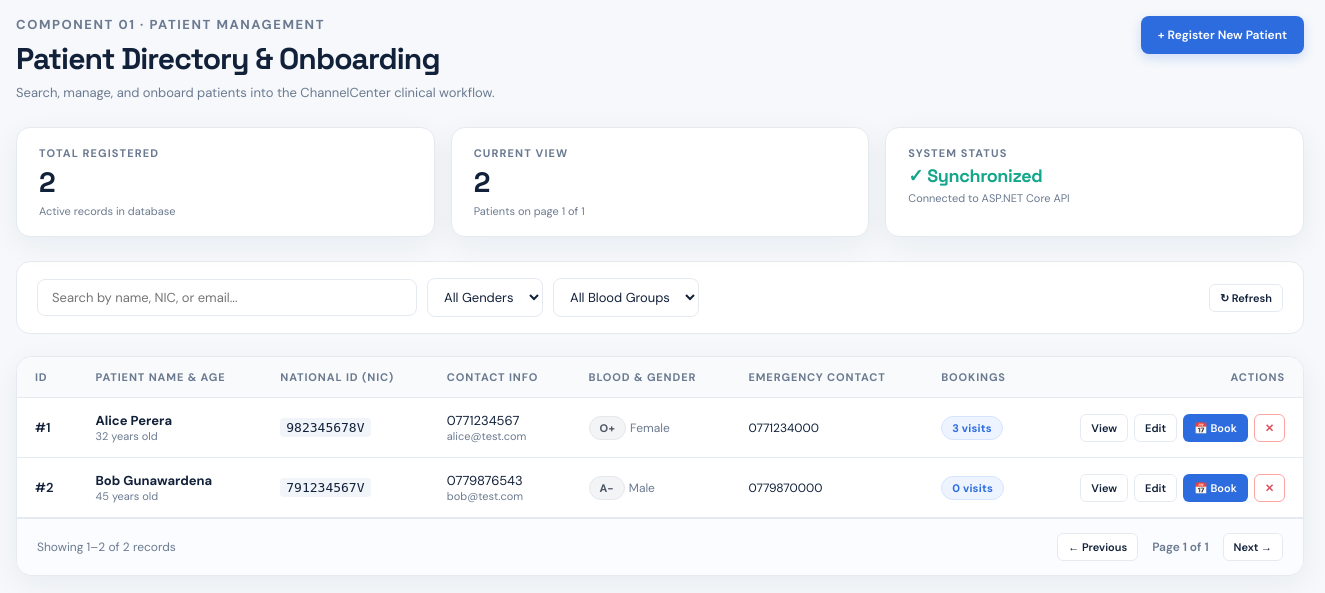
Test: PatientDirectoryTab › clears filters when Reset Filters is clicked
The width and height of the screenshot is (1325, 593).
Check: the text "Alice Perera" is shown, box [96, 412, 172, 429]
Step 1. Type "Alice" into the field with placeholder "Search by name, NIC, or email..." → (227, 298), box [37, 279, 417, 316]
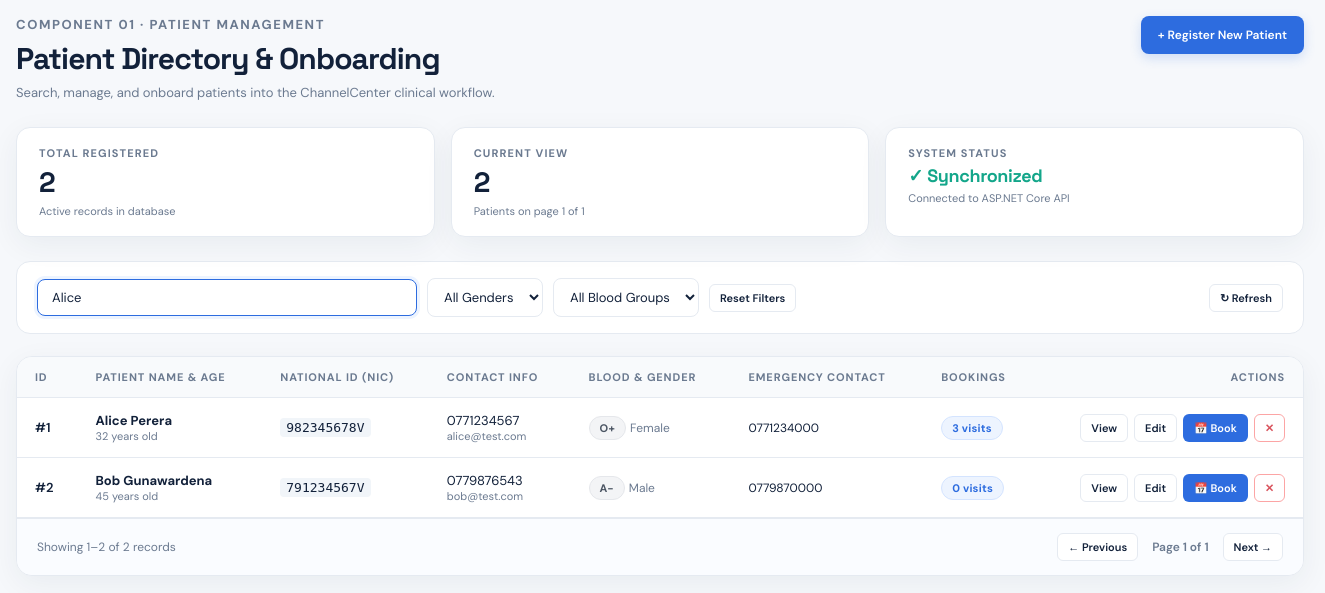
Step 2. Click the button "Reset Filters" → (753, 298), box [709, 284, 796, 312]
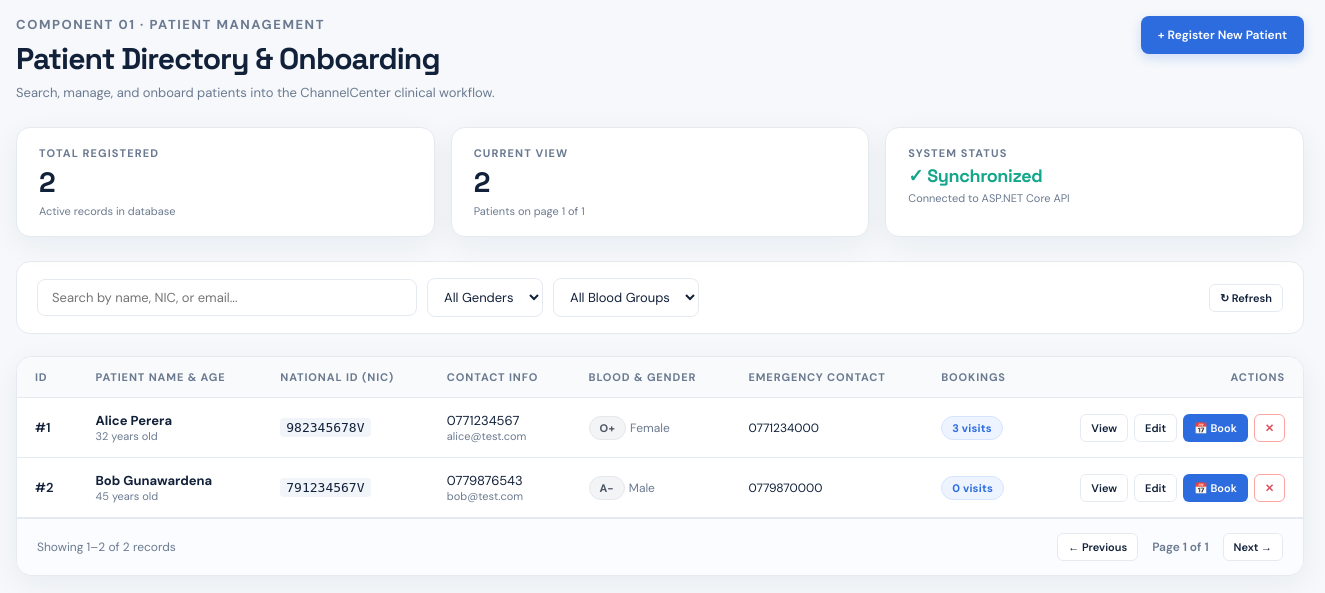
Check: the button "Reset Filters" is gone
